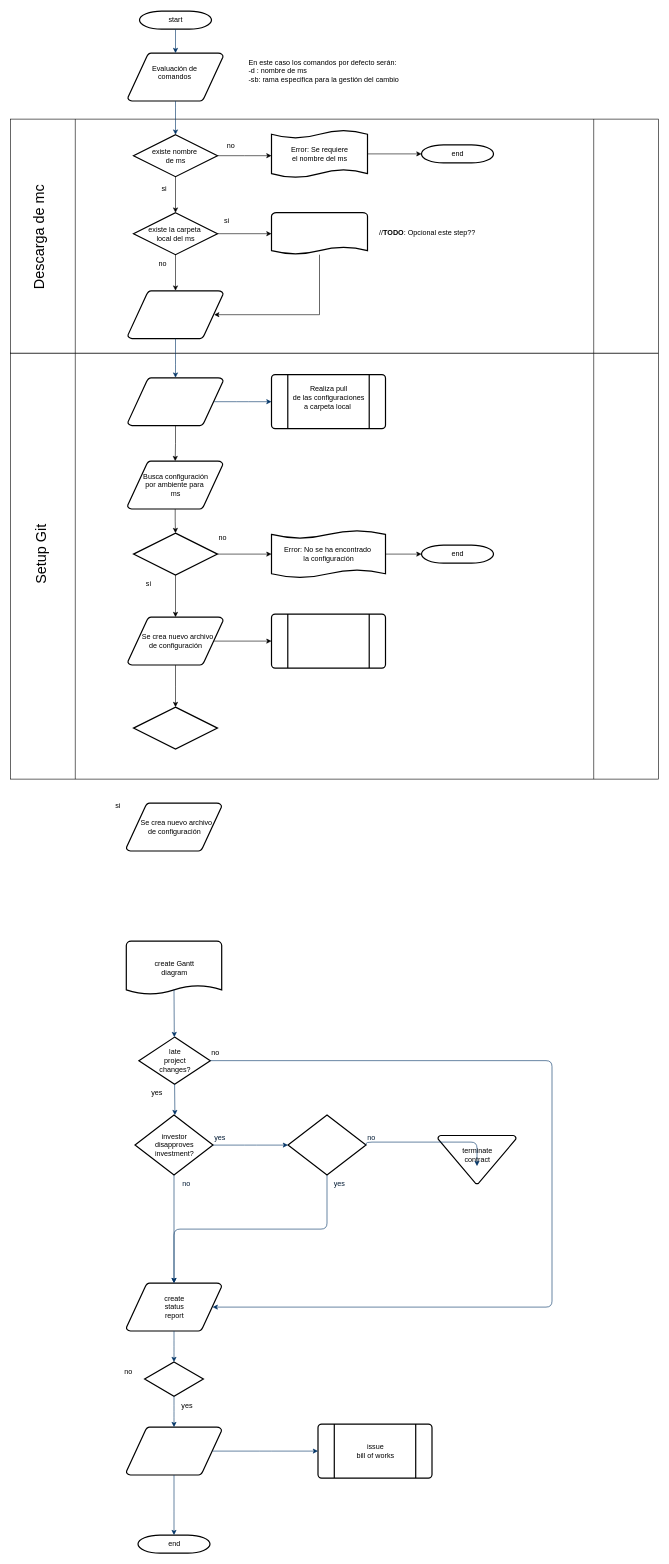
Some shapes in this 669 by 1564 pixel diagram are drawn without their labels. The centre of each missing label's shape, as x and y in pixels:
"agreement?" goes at pixel 326 1144.
"create final report" goes at pixel 173 1450.
"Descarga desde Git en carpeta local" goes at pixel 175 314.
"existe configuración" goes at pixel 175 553.
"existe el branch en git del ms" goes at pixel 175 727.
"Info: La carpeta ya existe." goes at pixel 319 233.
"Obtiene rama master de configuraciones para el ms" goes at pixel 175 401.
"project complete?" goes at pixel 174 1378.
"Se hace un commit al repositorio con el nuevo archivo" goes at pixel 328 640.
